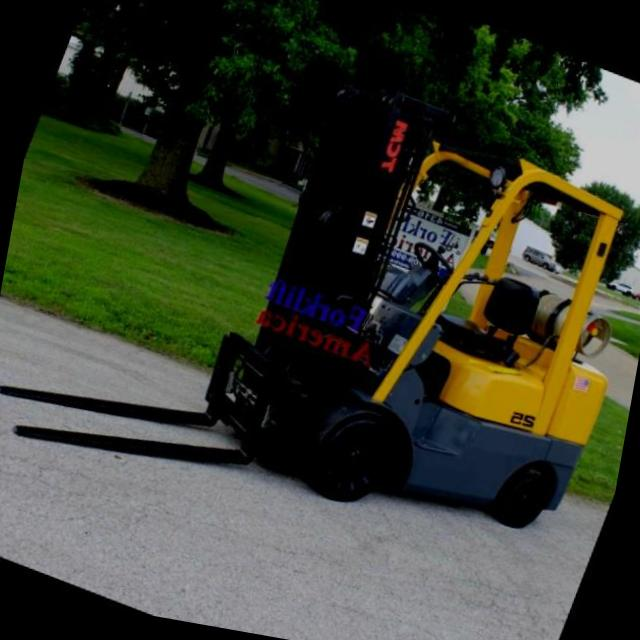forklift: (155, 32, 640, 605)
